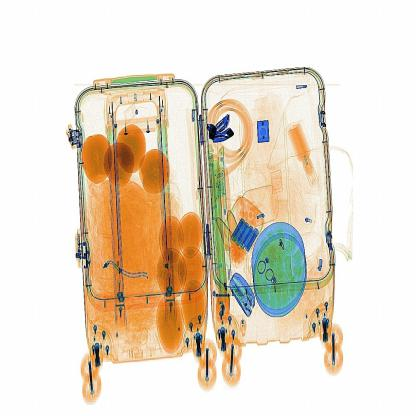knife: (207, 109, 241, 149)
